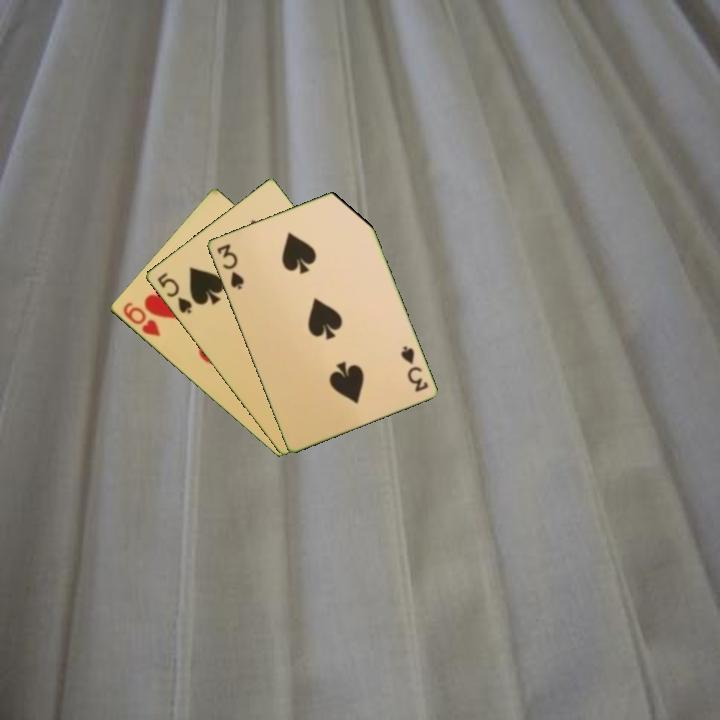3s: (397, 342, 431, 395), (213, 240, 247, 292)
5s: (153, 269, 195, 317)
6h: (119, 298, 163, 340)
